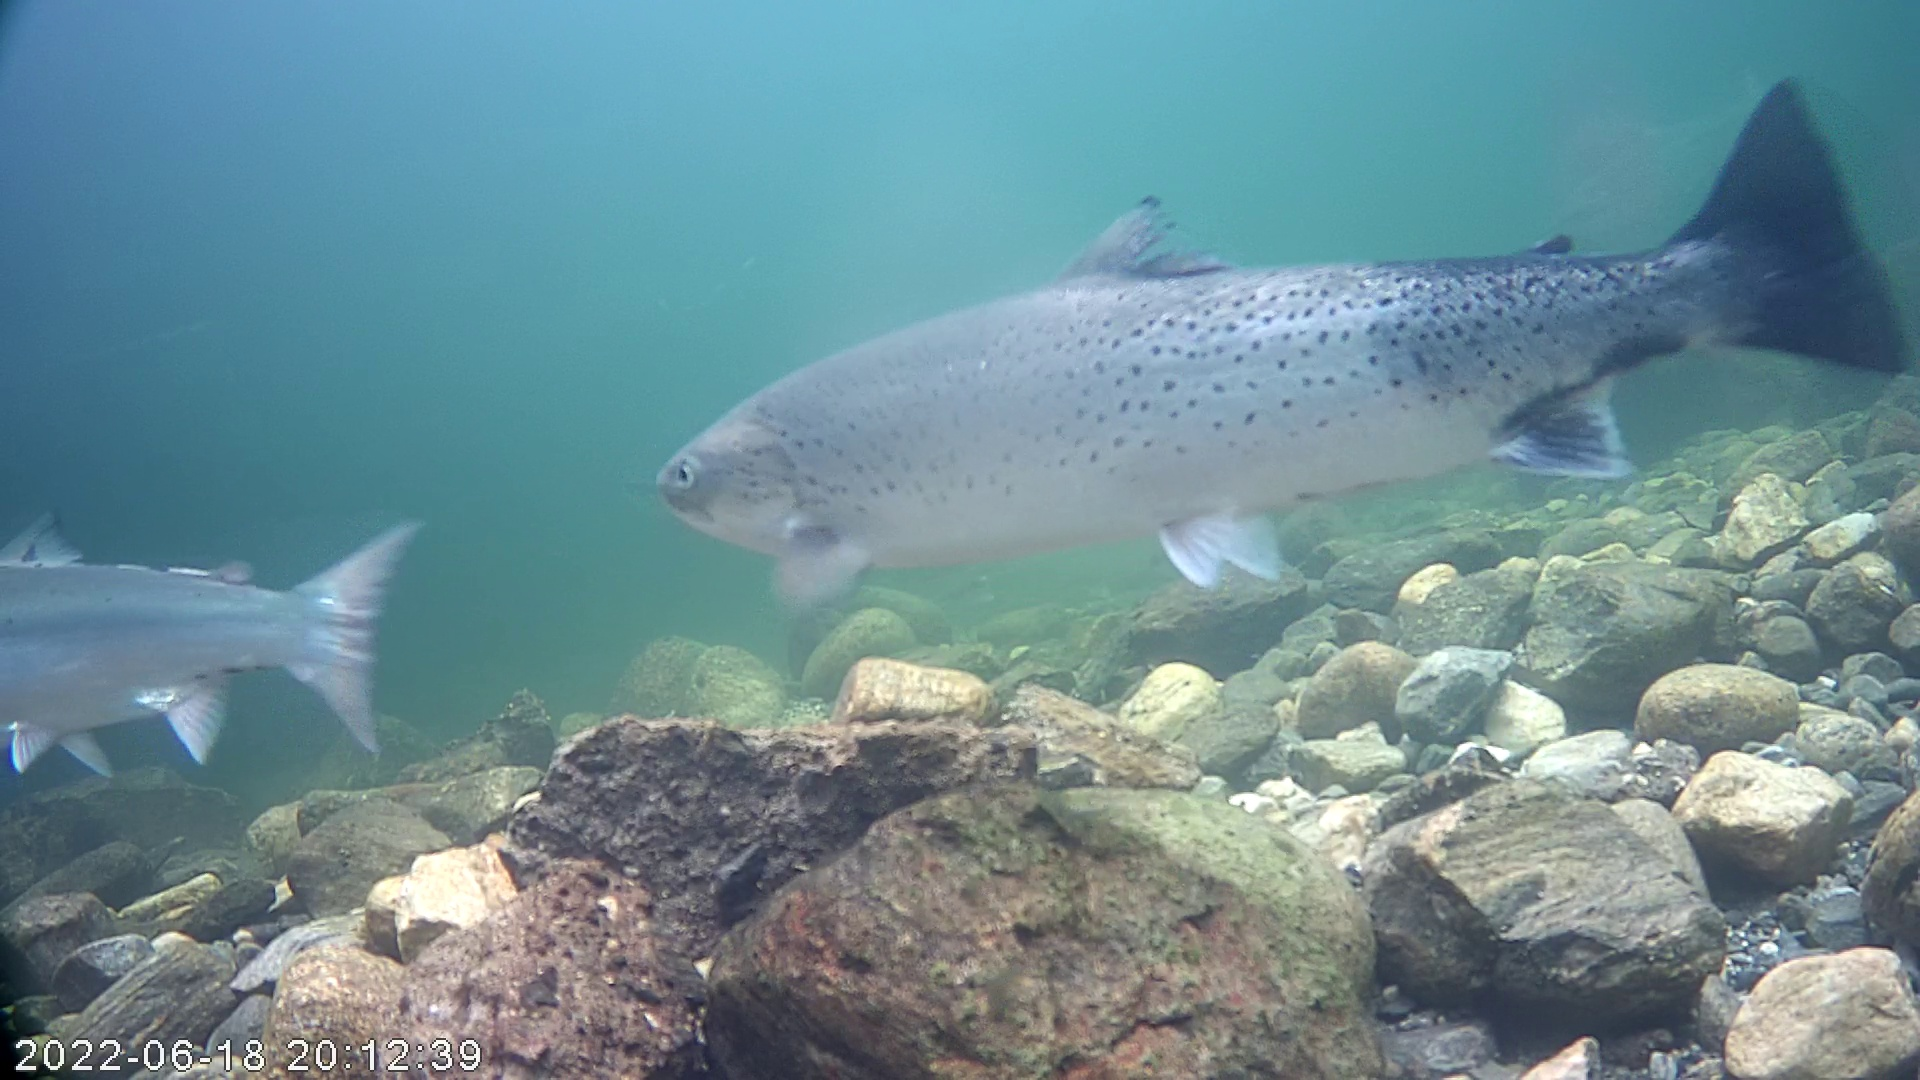salmon: (655, 76, 1920, 612), (1, 506, 425, 781)
